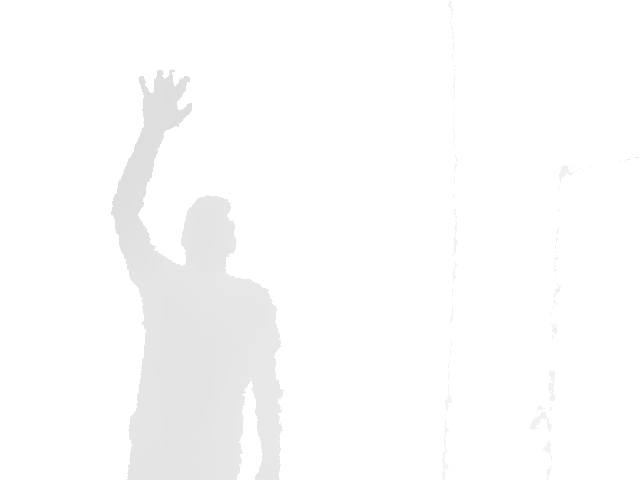hand: (138, 68, 194, 131)
head: (179, 195, 238, 276)
person: (109, 68, 285, 480)
